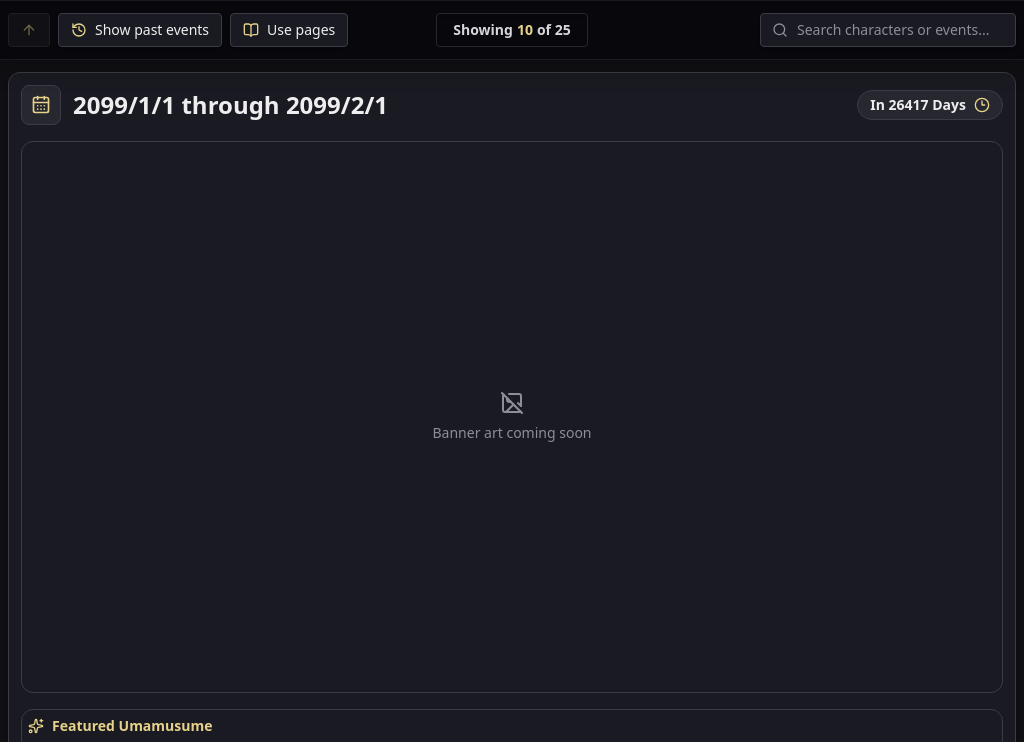
it: Timeline keeps its place when a filter is lifted › lands on the page holding that row, not page 1
Click the button "Use pages". click: {"x": 289, "y": 30}
box: x1=230 y1=13 x2=348 y2=47
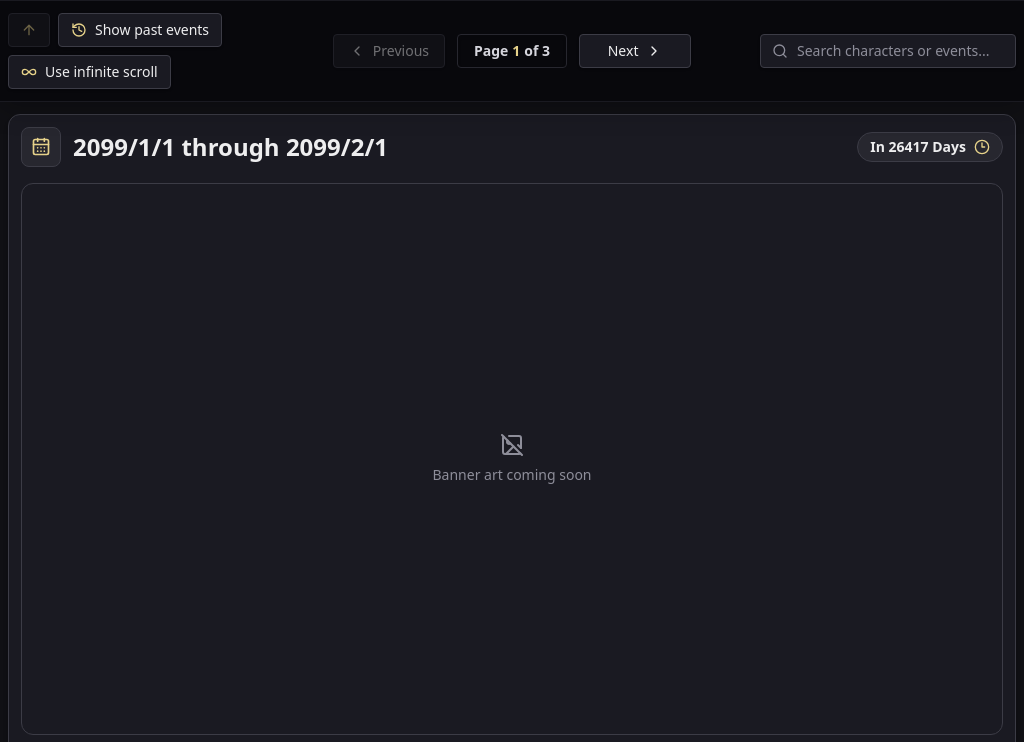
Type "Window 1" into the field with placeholder "Search characters or events...". click: {"x": 888, "y": 51}
box: x1=760 y1=34 x2=1016 y2=68
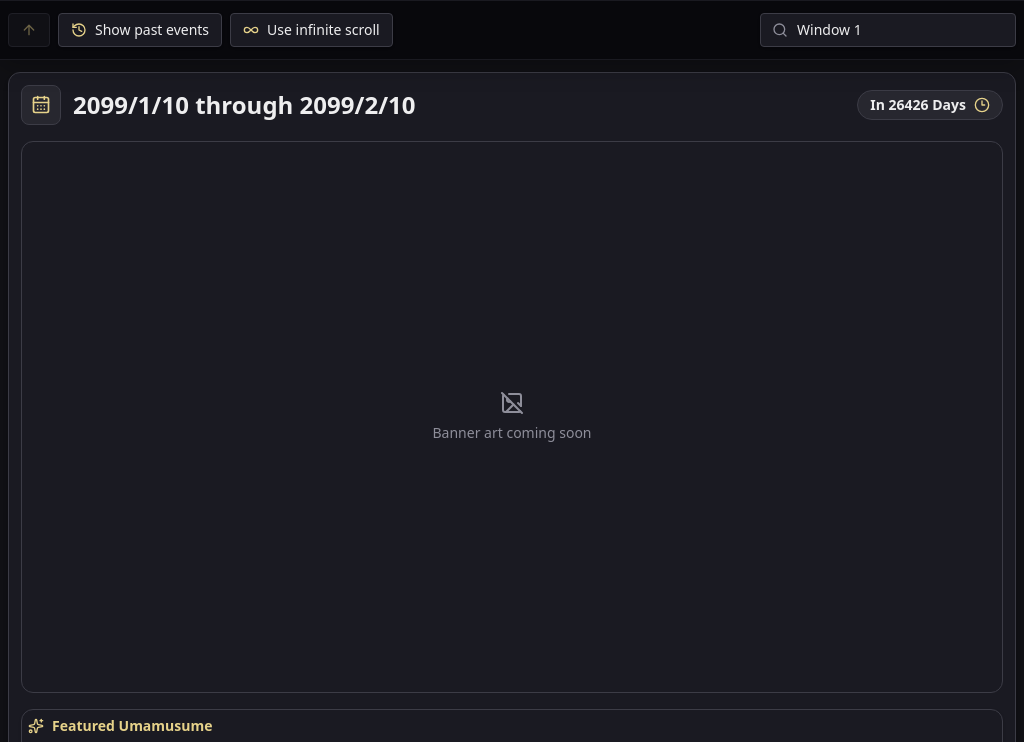
Clear the field with placeholder "Search characters or events...". click: {"x": 888, "y": 30}
box: x1=760 y1=13 x2=1016 y2=47
(page scrolled)
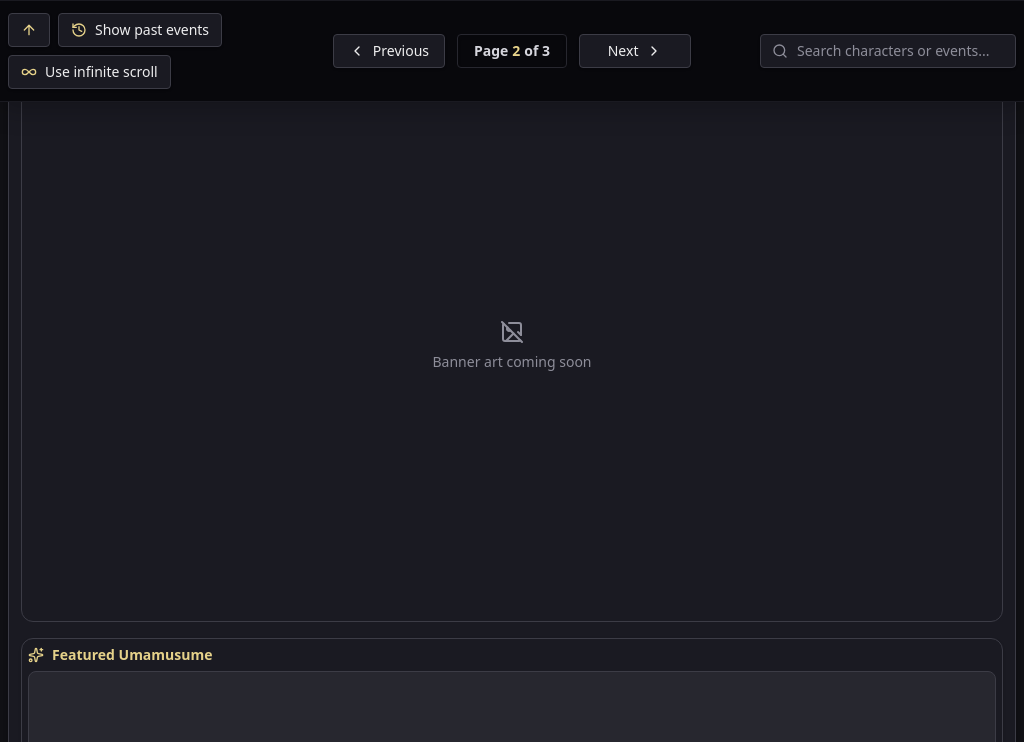
Expected: the text "2099/1/13 through 2099/2/13" is shown, x1=73 y1=18 x2=416 y2=50
Expected: the text "Page 2 of 3" is shown, x1=457 y1=34 x2=567 y2=68
